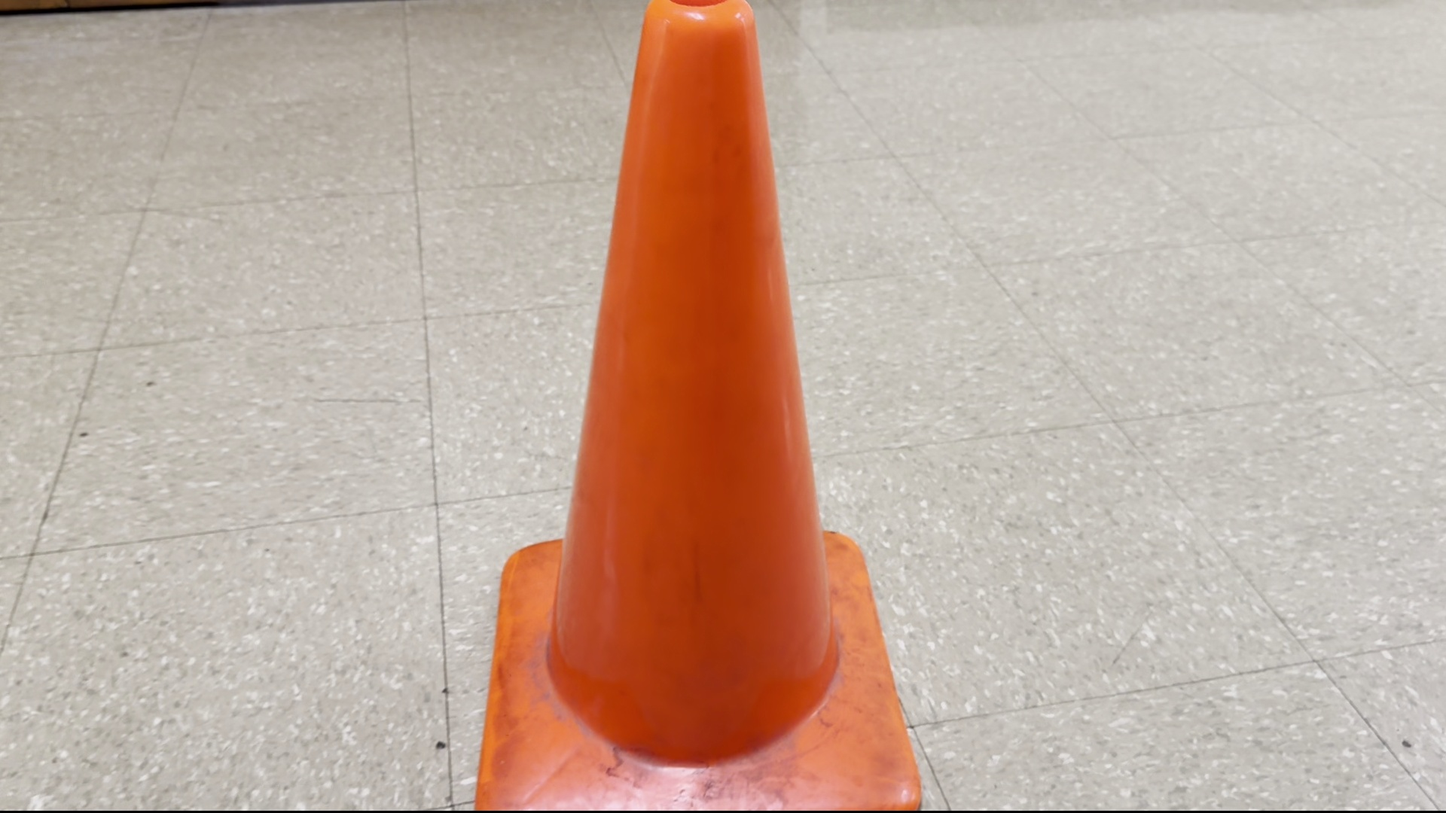traffic_cone: (474, 1, 922, 810)
